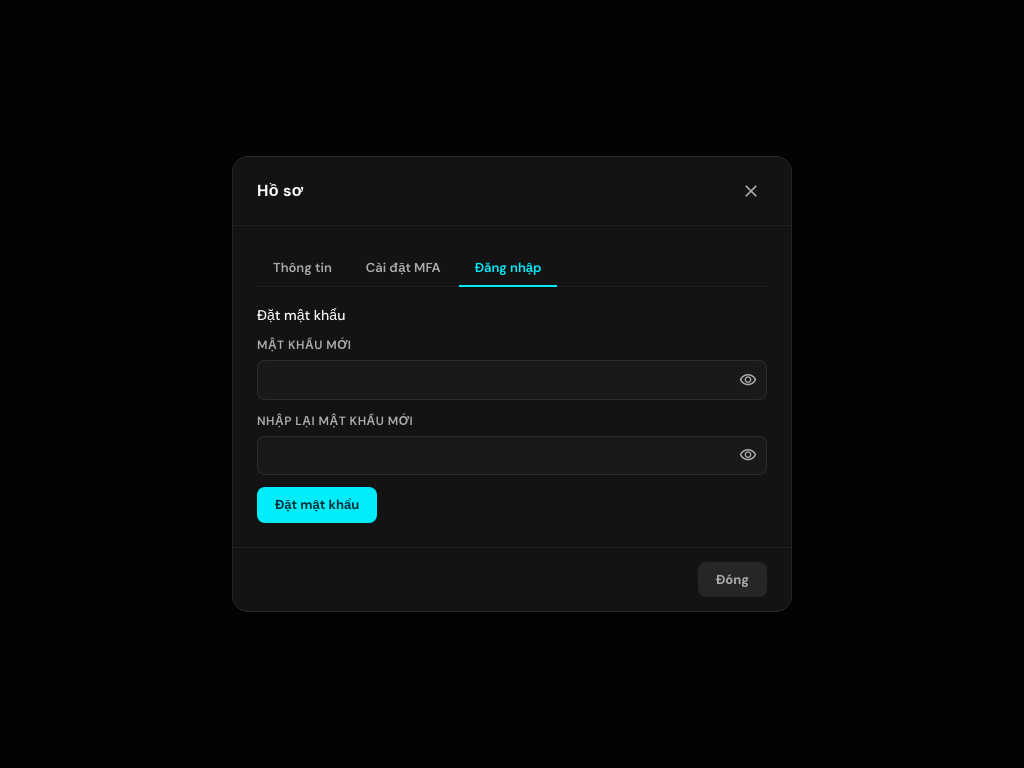
Test: ProfileModal sign-in tab: set password › maps server error codes to Vietnamese messages
Type "password123" into the password field labelled "Mật khẩu mới".
click(512, 380); type("password123")  # box top-left (257, 360), bottom-right (767, 400)
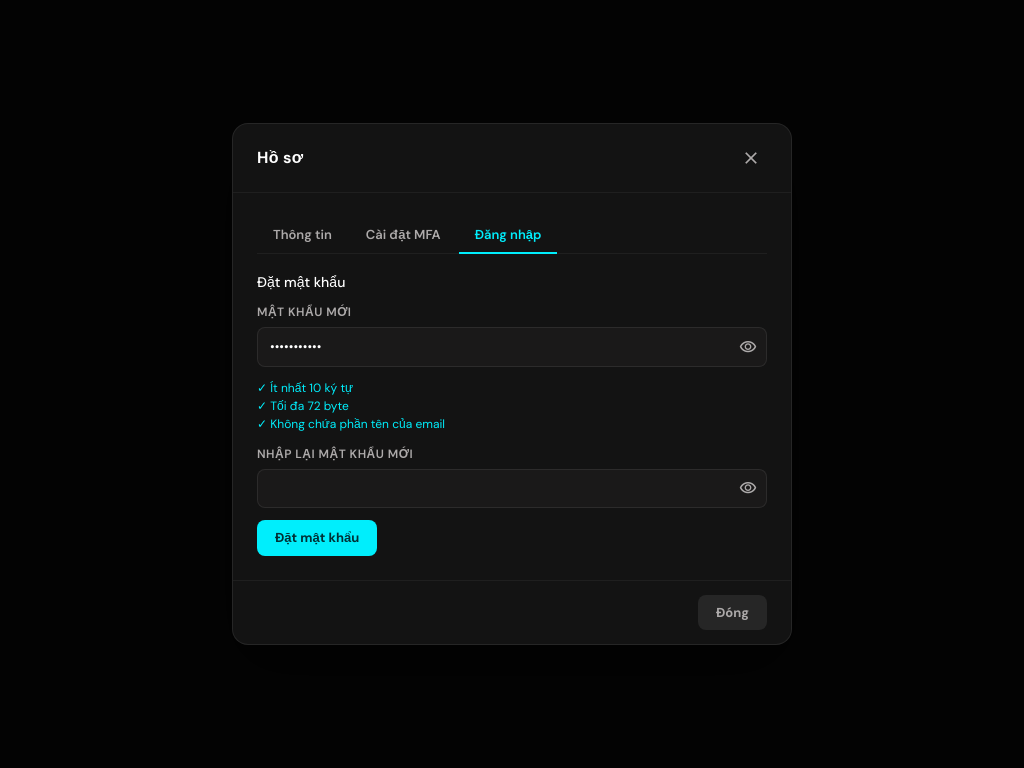
Type "password123" into the password field labelled "Nhập lại mật khẩu mới".
click(512, 488); type("password123")  # box top-left (257, 469), bottom-right (767, 508)
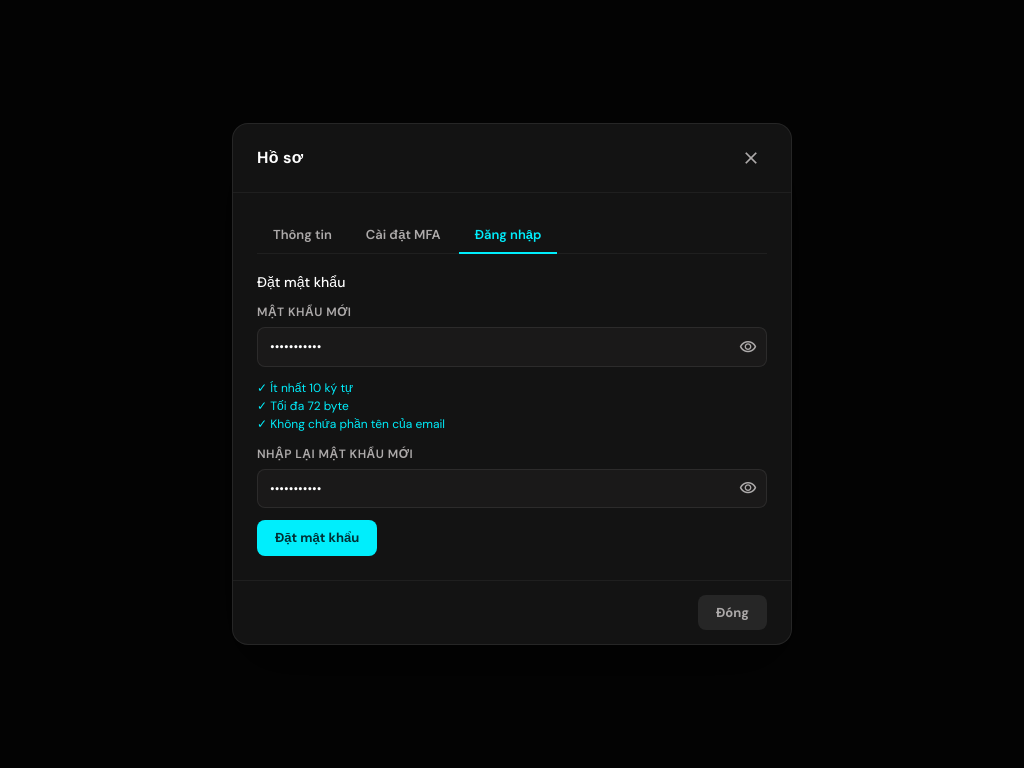
Click the button "Đặt mật khẩu".
click(317, 538)  # box top-left (257, 520), bottom-right (377, 556)
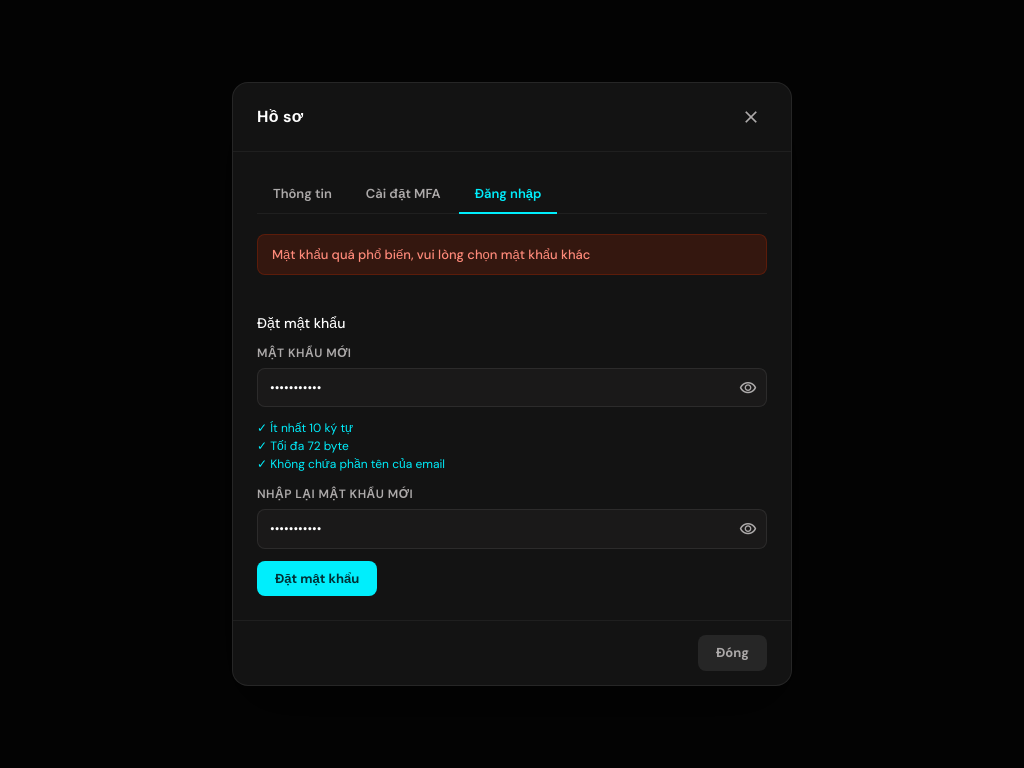
Expected: the text "Mật khẩu quá phổ biến, vui lòng chọn mật khẩu khác" is shown, top-left (257, 234), bottom-right (767, 275)
